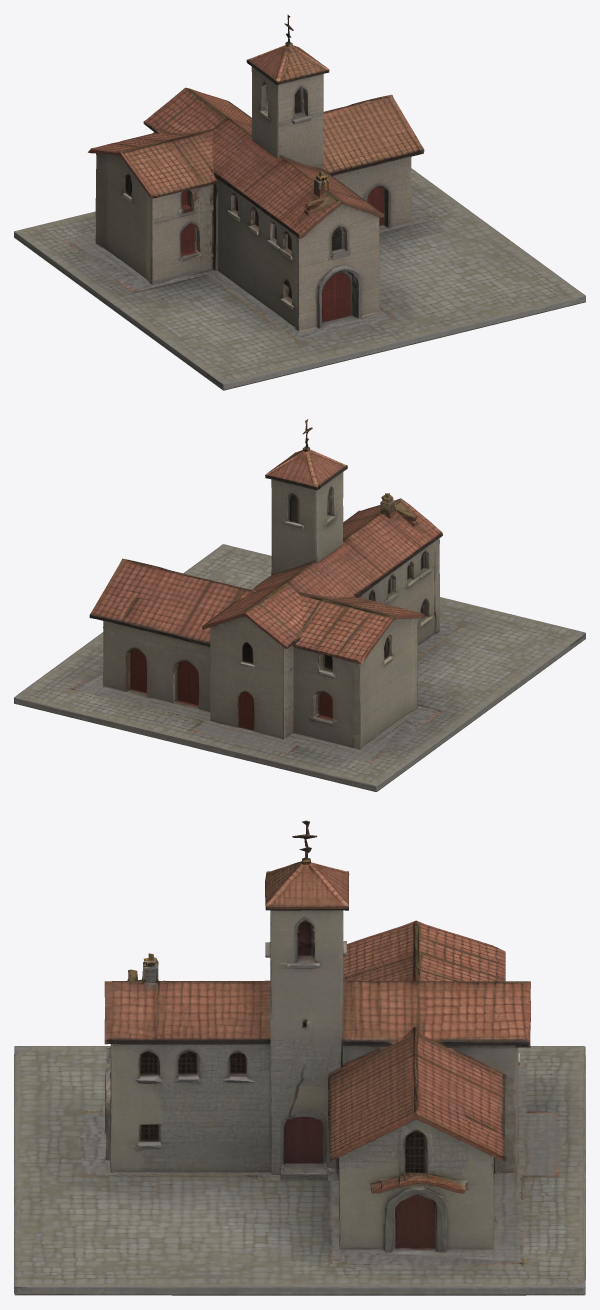
The model's file is simple_monastery_for__0527181035_texture.fbx.
3 views of the same model, one above another, from view 1: azimuth 30°, elevation 25°; view 2: azimuth 150°, elevation 25°; view 3: azimuth 270°, elevation 25° (orthographic). The views are drawn at different scales.
Visible parts, largest first — view 1: temp; view 2: temp; view 3: temp.
Part boxes in pixels (bbox=[...]): temp: bbox=[14, 14, 585, 390]; temp: bbox=[14, 419, 585, 791]; temp: bbox=[14, 820, 585, 1295].
Bounding box in the file's own units: 200 × 139 × 200.
Materials: 1 (1 with a texture image).
